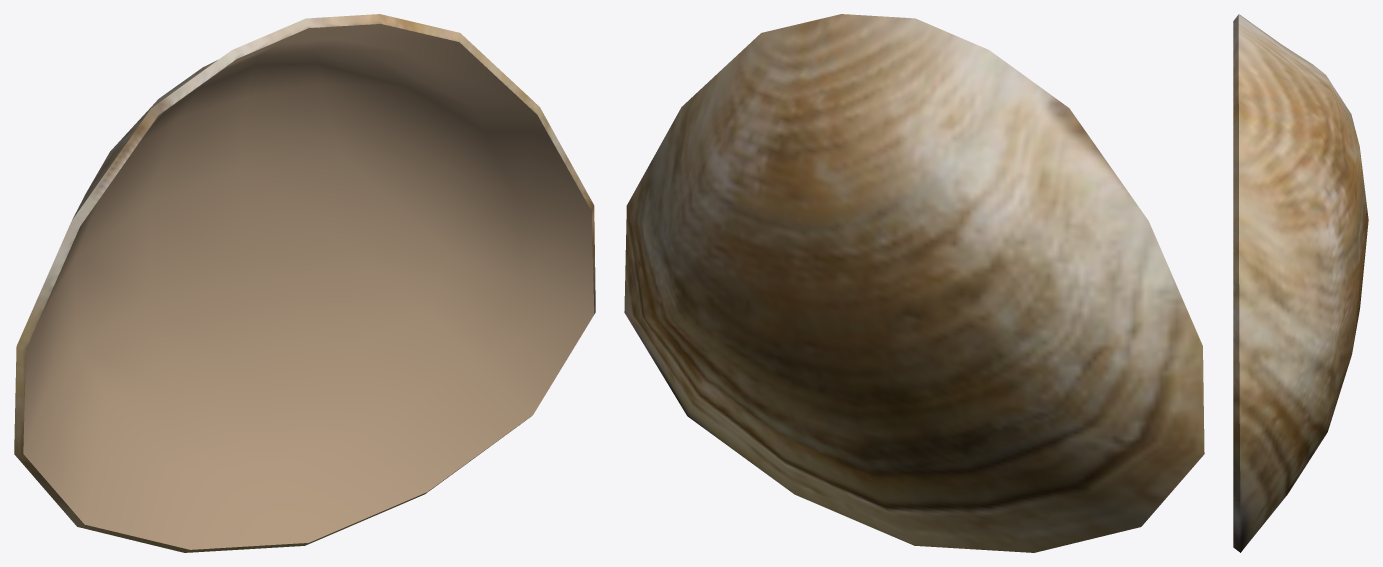
The model's file is SM_Shell_CockleUp.obj.
3 renders of one model, left to right at view 1: azimuth 30°, elevation 25°; view 2: azimuth 150°, elevation 25°; view 3: azimuth 270°, elevation 25°, orthographic. The views are drawn at different scales.
Parts seen in each view (by area): view 1: SM_Shell_CockleUp; view 2: SM_Shell_CockleUp; view 3: SM_Shell_CockleUp.
Part boxes in pixels (box(x1,y1,x2,y2)): SM_Shell_CockleUp: box(14, 14, 595, 552); SM_Shell_CockleUp: box(624, 14, 1204, 552); SM_Shell_CockleUp: box(1233, 14, 1368, 552).
Bounding box in the file's own units: 3.5 × 3.04 × 0.7693.
Materials: 2 (1 with a texture image).
